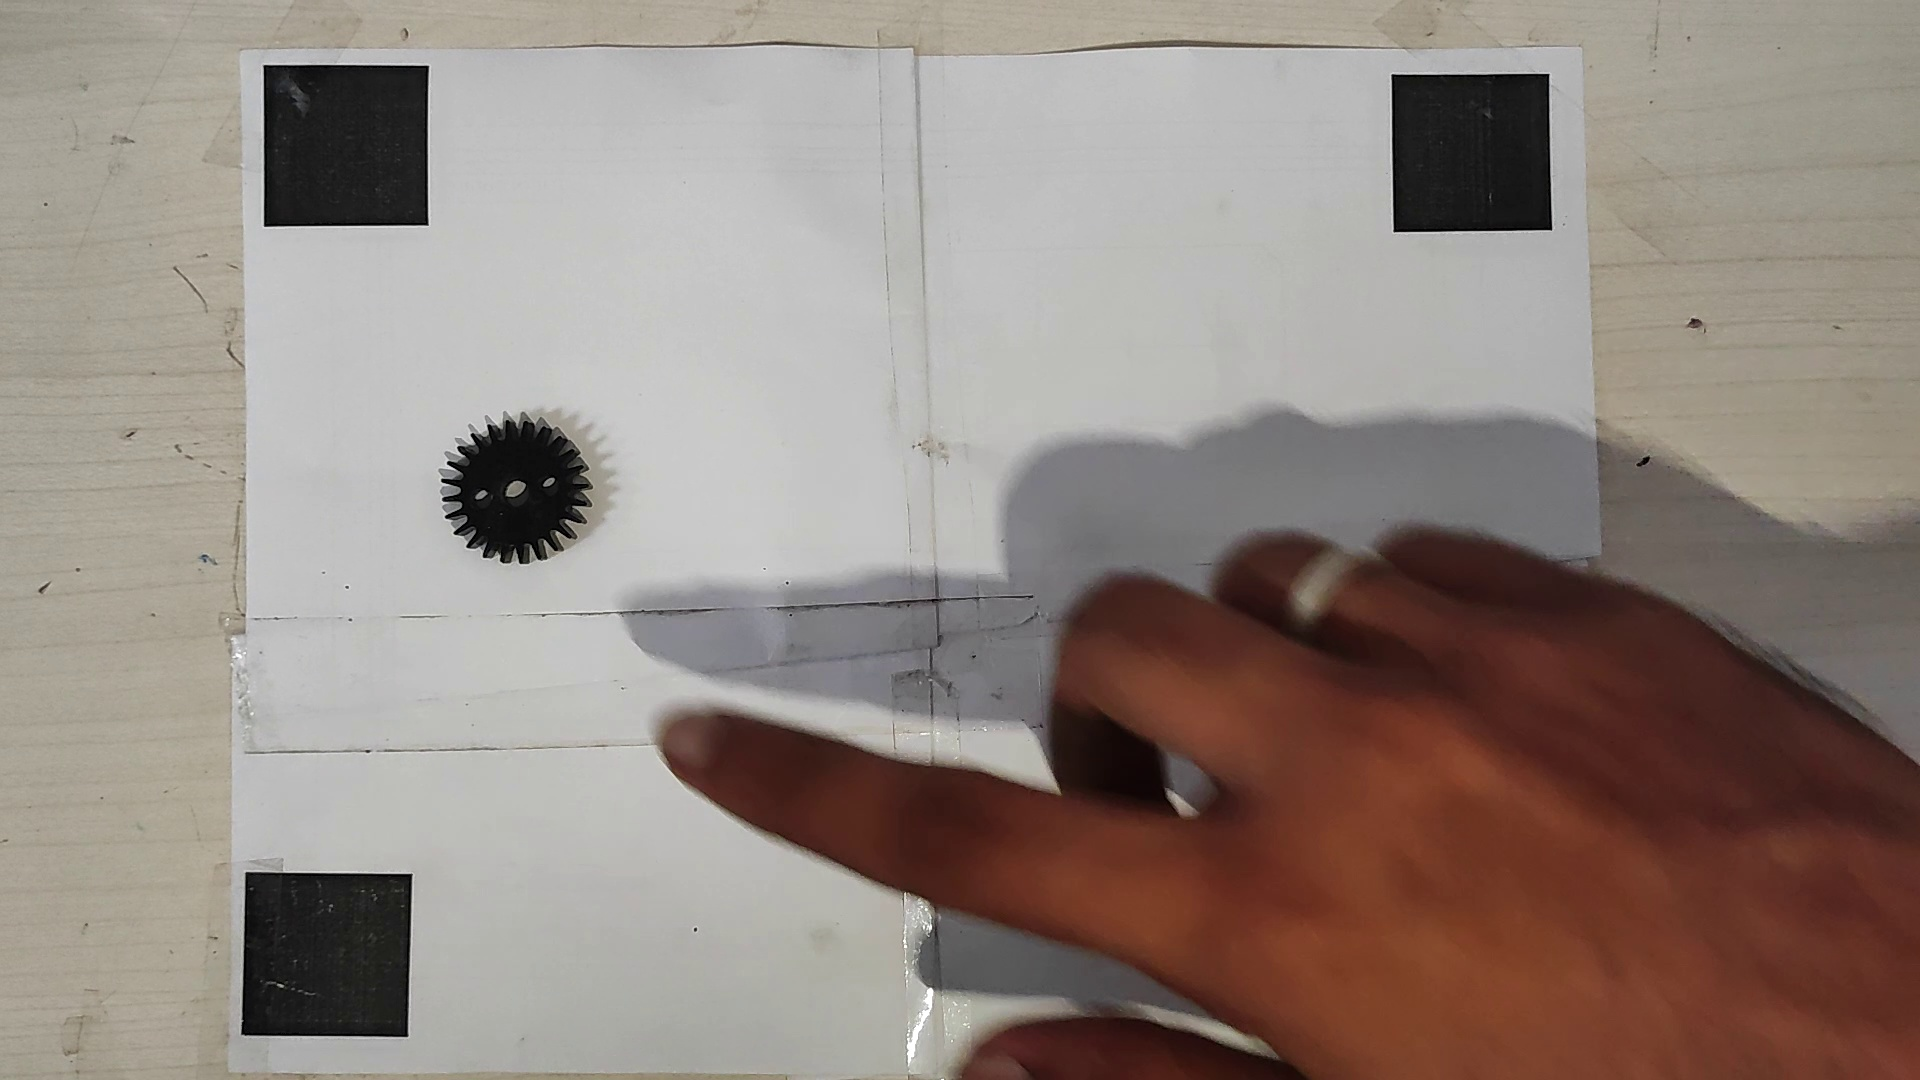Gear: (442, 415, 598, 569)
